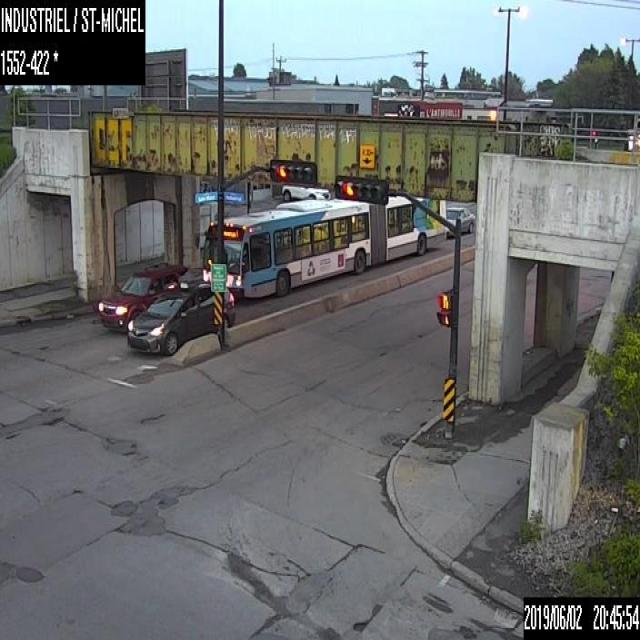bus: (201, 194, 445, 298)
vehicle: (127, 284, 233, 354), (98, 264, 186, 330), (447, 206, 474, 238), (281, 183, 330, 200)
